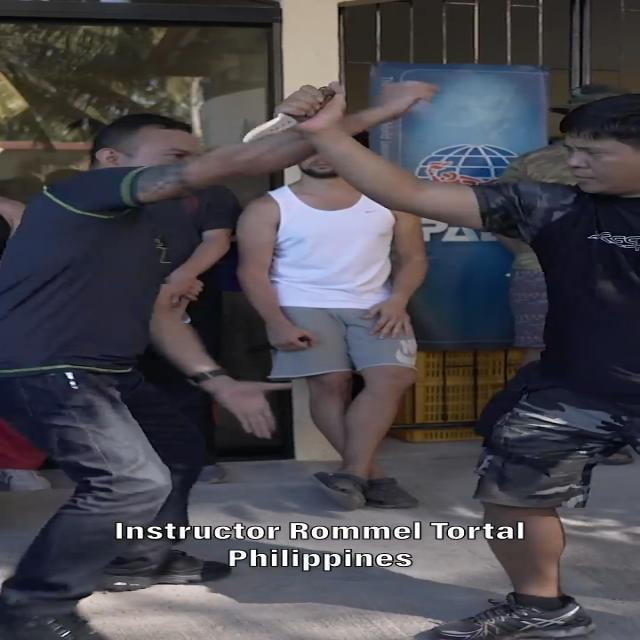Knife: (235, 91, 342, 148)
